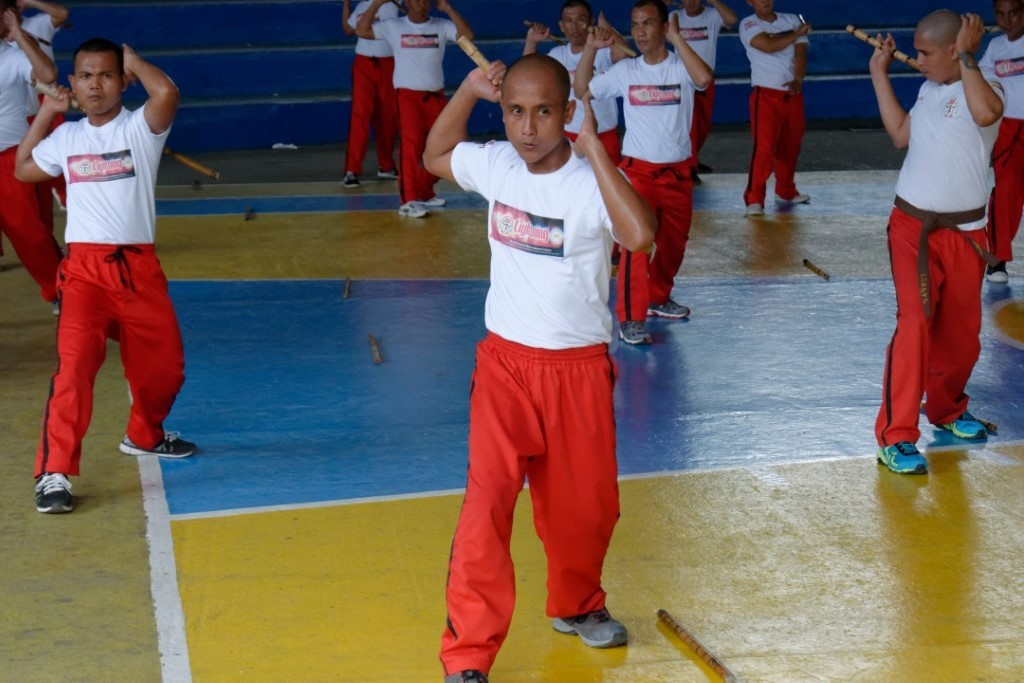baston_e: (38, 78, 215, 179), (849, 24, 934, 78), (657, 616, 734, 668), (464, 34, 507, 91), (584, 21, 632, 57), (526, 19, 565, 46), (805, 259, 826, 280), (367, 338, 382, 360), (798, 15, 811, 30), (341, 279, 350, 294), (244, 208, 252, 219)
baston_v: (23, 71, 47, 98), (452, 32, 476, 53), (652, 602, 670, 619), (212, 169, 227, 185), (843, 21, 857, 34), (723, 674, 742, 683), (372, 356, 384, 367), (521, 15, 531, 27), (579, 21, 588, 32), (366, 333, 376, 341), (823, 273, 830, 282), (801, 255, 807, 264), (341, 292, 348, 299), (804, 27, 812, 33), (344, 275, 351, 281), (797, 12, 803, 17), (244, 216, 249, 221)
